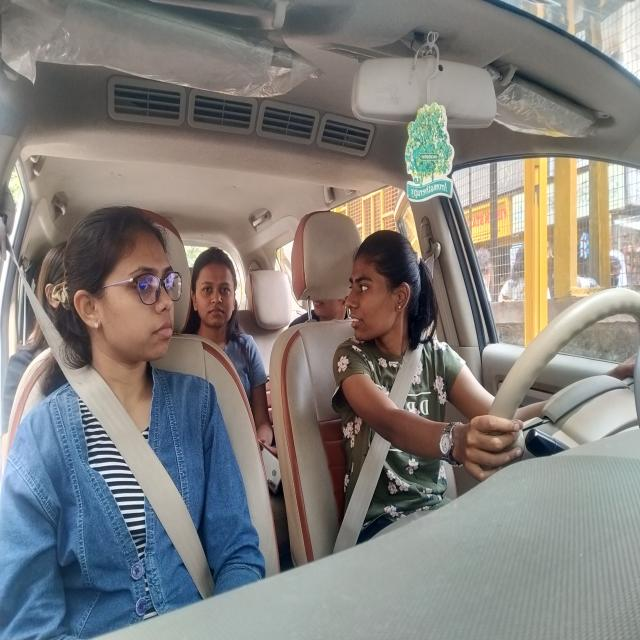LeftRight: (340, 209, 442, 370)
person: (52, 200, 191, 401), (188, 244, 241, 344)
